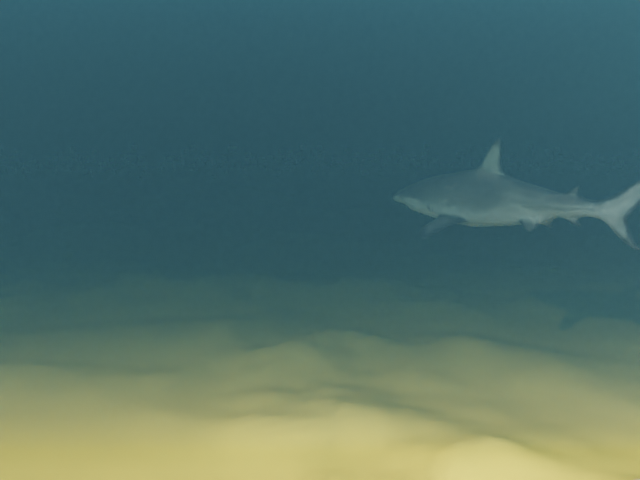Carribean Shark.001: (392, 138, 640, 250)
